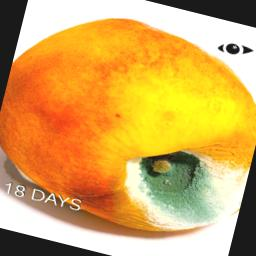Peach Rotten: (0, 0, 256, 251)
